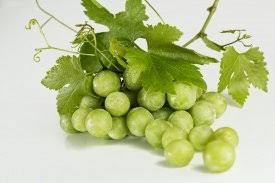Green grapes: (38, 32, 250, 175)
